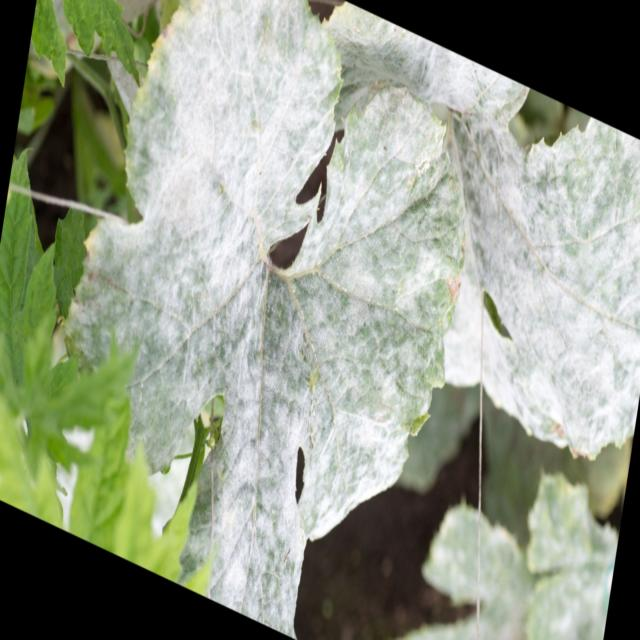Powdery Mildew: (62, 0, 467, 636)
